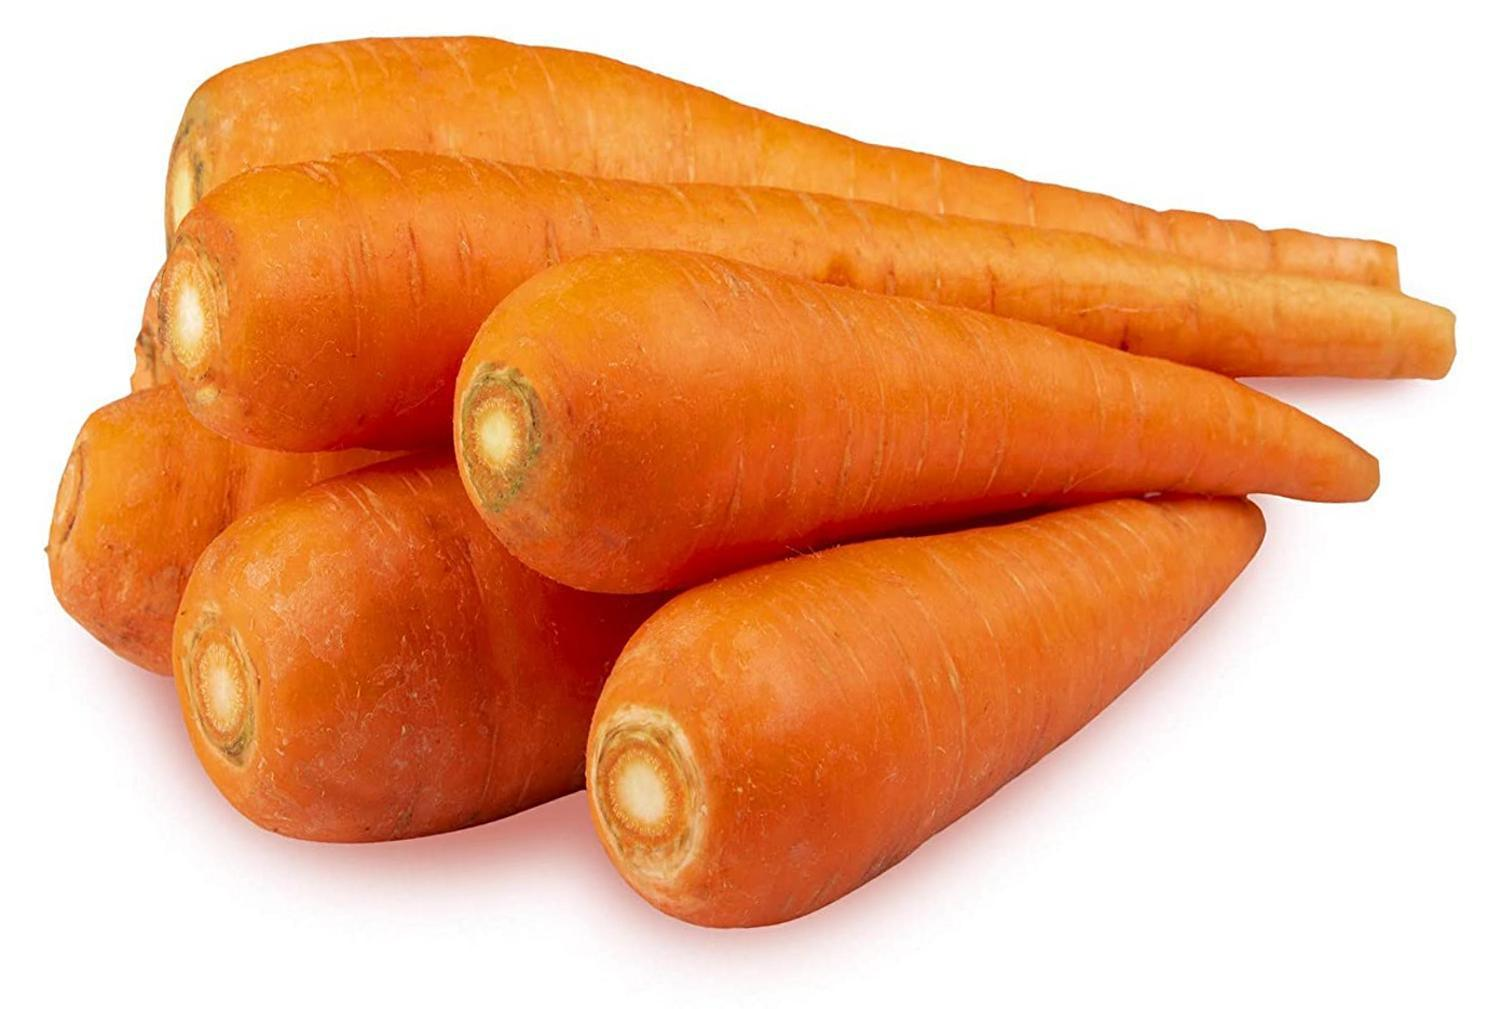carrot: (111, 28, 1324, 881), (417, 208, 1416, 592)
